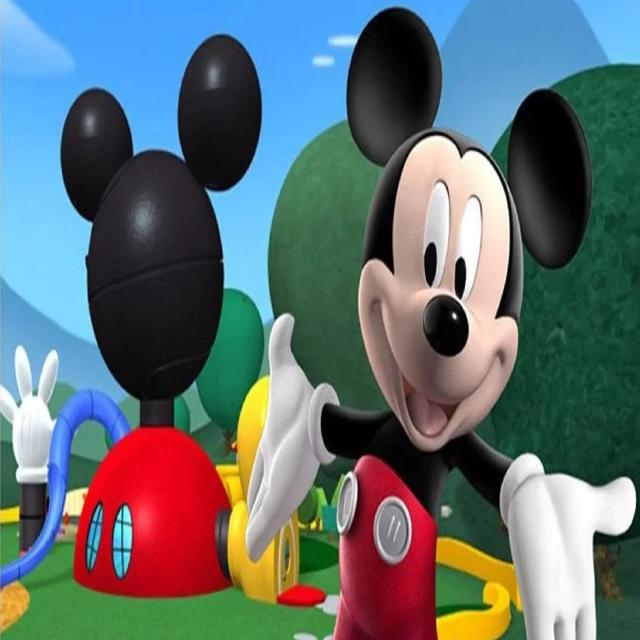mickey: (331, 10, 604, 509)
